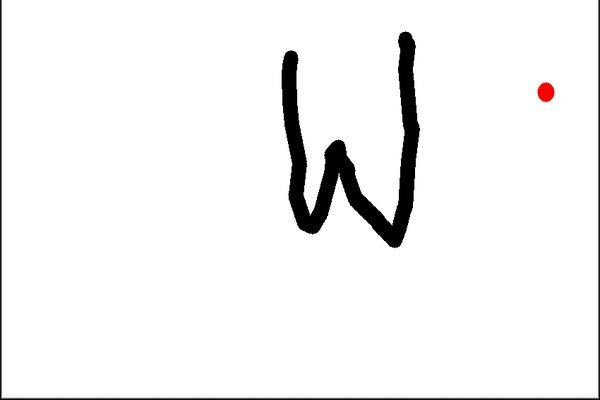w: (266, 21, 426, 266)
